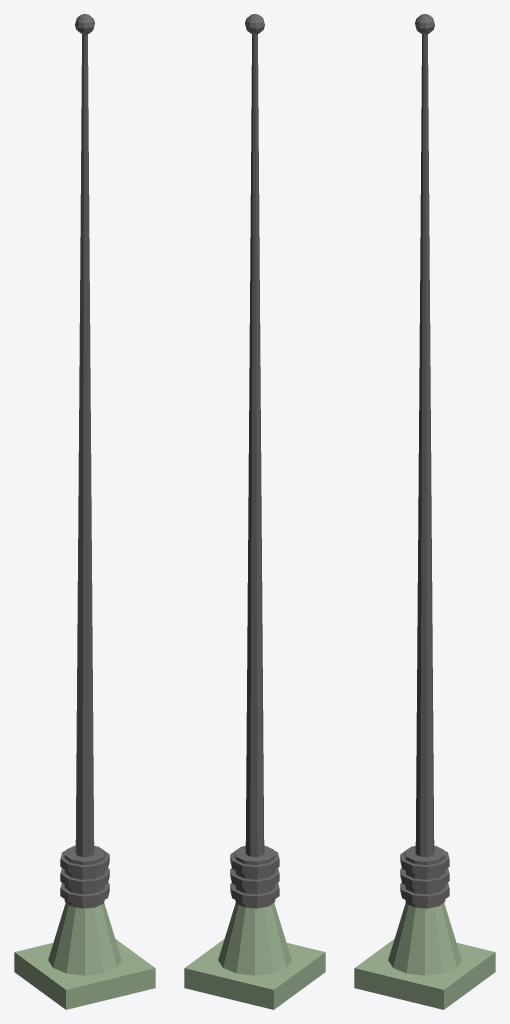
The model's file is greeble_antenna.glb.
The picture shows the model from 3 angles, left to right: view 1: azimuth 30°, elevation 25°; view 2: azimuth 150°, elevation 25°; view 3: azimuth 330°, elevation 25°; orthographic projection.
Parts seen in each view (by area): view 1: antenna_whip_trim_dark, antenna_whip; view 2: antenna_whip_trim_dark, antenna_whip; view 3: antenna_whip_trim_dark, antenna_whip.
Boxes of the visible parts, <box> form: antenna_whip_trim_dark: <box>60,14,109,908</box>; antenna_whip: <box>14,902,155,1009</box>; antenna_whip_trim_dark: <box>230,14,279,908</box>; antenna_whip: <box>184,902,325,1009</box>; antenna_whip_trim_dark: <box>400,14,449,908</box>; antenna_whip: <box>354,902,495,1009</box>.
Size of the model in its own units: 0.14 by 1.44 by 0.14.
